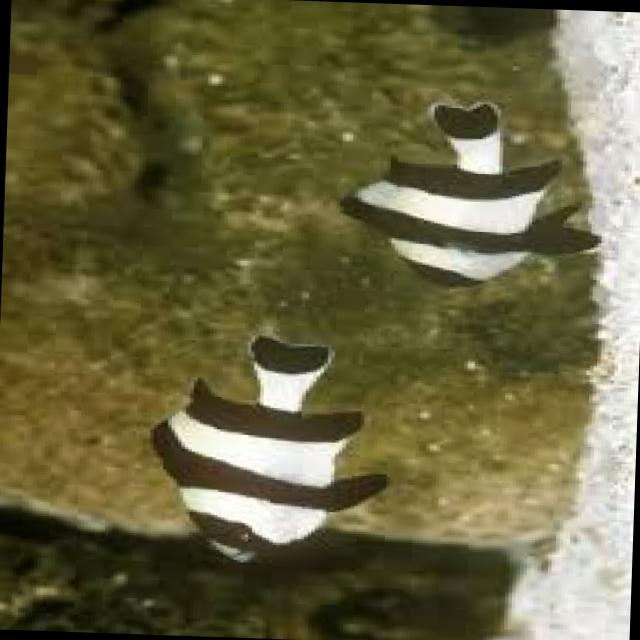ThreeStripedDamselfish: (153, 336, 386, 561), (340, 99, 601, 285)
